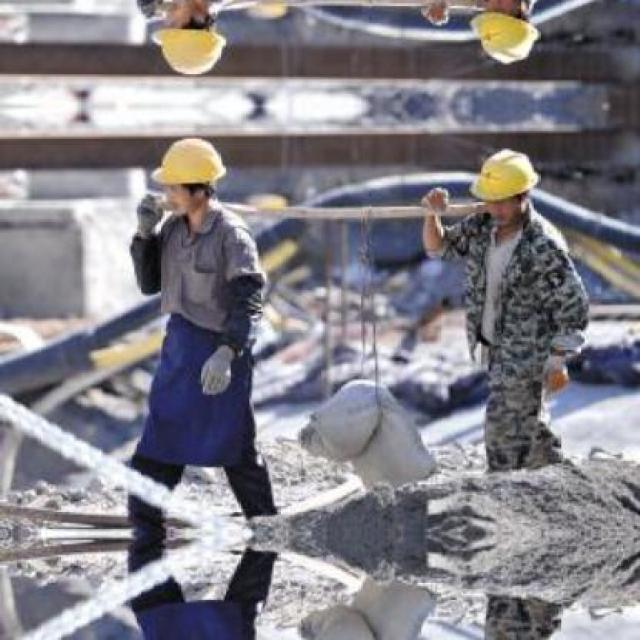helmet: (151, 129, 234, 218), (151, 0, 235, 85), (464, 141, 542, 221), (463, 0, 543, 72)
